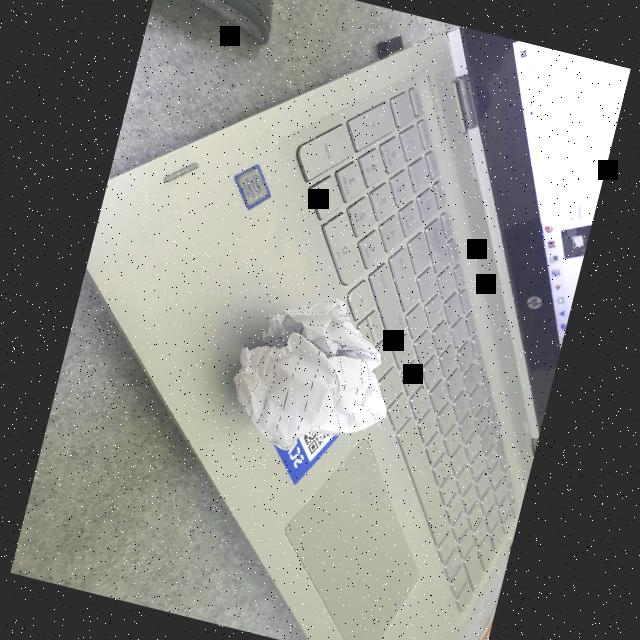scrap_paper: (208, 272, 420, 478)
